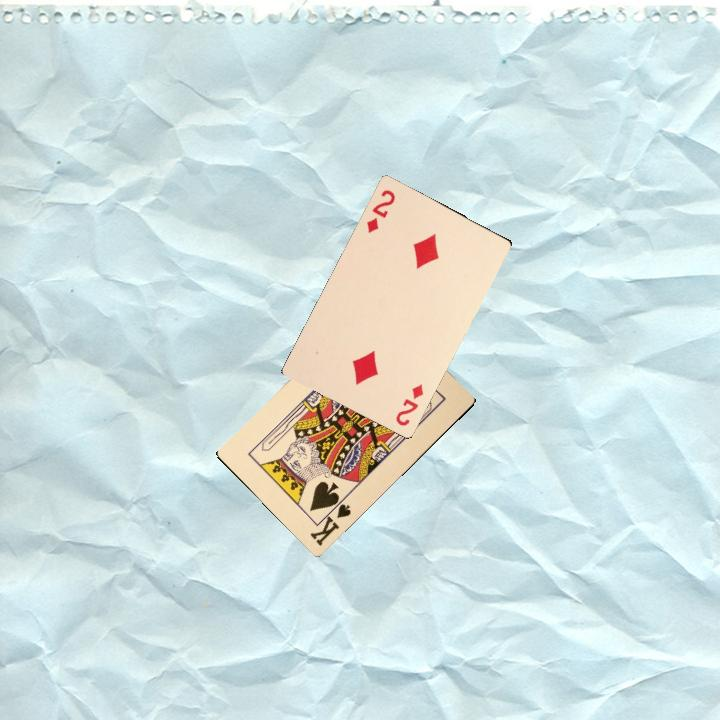2d: (363, 186, 398, 235), (392, 380, 426, 428)
Ks: (306, 496, 354, 548)
